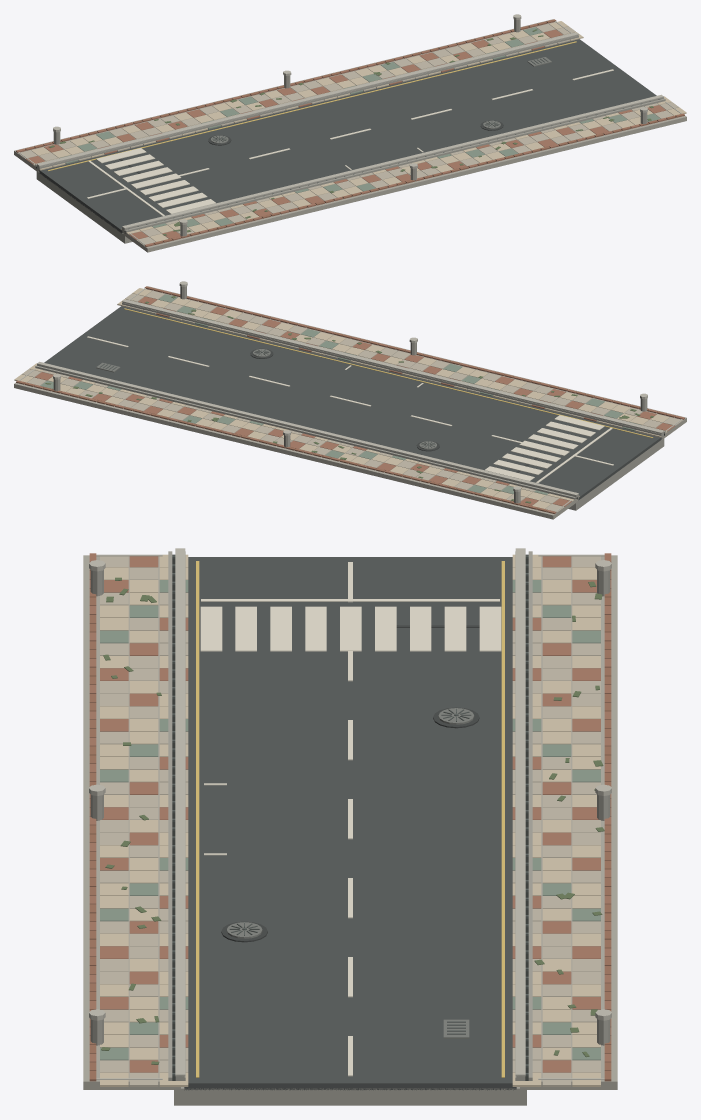
Rendered from Old_Town_Road.fbx.
3 views of the same model, one above another, from view 1: azimuth 30°, elevation 25°; view 2: azimuth 150°, elevation 25°; view 3: azimuth 270°, elevation 25° (orthographic). The views are drawn at different scales.
Visible parts, largest first — view 1: Main asphalt road surface, Sidewalk concrete bed, Kerb top worn edge.001, Kerb top worn edge, Drain outer lip, Sidewalk concrete bed.001, Drain inner lip.001, Continuous raised kerb, Faded yellow road edge line.001, Road foundation slab, Continuous raised kerb.001, Drain outer lip.001; view 2: Main asphalt road surface, Sidewalk concrete bed.001, Kerb top worn edge, Kerb top worn edge.001, Drain outer lip.001, Sidewalk concrete bed, Drain inner lip, Continuous raised kerb.001, Faded yellow road edge line, Road foundation slab, Continuous raised kerb, Drain outer lip; view 3: Main asphalt road surface, Sidewalk concrete bed, Sidewalk concrete bed.001, Road foundation slab, Kerb top worn edge, Kerb top worn edge.001, Drain outer lip, Drain outer lip.001, Faded yellow road edge line, Faded yellow road edge line.001, Drain dark channel, Drain dark channel.001 (+10 smaller).
Part boxes in pixels (left/top/right/bottom): Main asphalt road surface: left=39, top=39, right=656, bottom=233; Sidewalk concrete bed: left=123, top=104, right=686, bottom=252; Kerb top worn edge.001: left=37, top=32, right=578, bottom=166; Kerb top worn edge: left=122, top=94, right=663, bottom=228; Drain outer lip: left=125, top=98, right=665, bottom=233; Sidewalk concrete bed.001: left=14, top=19, right=563, bottom=171; Drain inner lip.001: left=39, top=35, right=578, bottom=169; Continuous raised kerb: left=122, top=97, right=663, bottom=233; Faded yellow road edge line.001: left=47, top=41, right=576, bottom=171; Road foundation slab: left=36, top=171, right=132, bottom=243; Continuous raised kerb.001: left=37, top=35, right=578, bottom=171; Drain outer lip.001: left=35, top=32, right=574, bottom=167; Main asphalt road surface: left=44, top=306, right=661, bottom=500; Sidewalk concrete bed.001: left=14, top=371, right=577, bottom=519; Kerb top worn edge: left=122, top=299, right=663, bottom=433; Kerb top worn edge.001: left=37, top=361, right=578, bottom=495; Drain outer lip.001: left=35, top=365, right=575, bottom=500; Sidewalk concrete bed: left=137, top=286, right=686, bottom=438; Drain inner lip: left=122, top=302, right=661, bottom=436; Continuous raised kerb.001: left=37, top=364, right=578, bottom=499; Faded yellow road edge line: left=124, top=308, right=653, bottom=438; Road foundation slab: left=568, top=438, right=664, bottom=510; Continuous raised kerb: left=122, top=302, right=663, bottom=438; Drain outer lip: left=126, top=299, right=665, bottom=434; Main asphalt road surface: left=184, top=557, right=516, bottom=1090; Sidewalk concrete bed: left=83, top=555, right=180, bottom=1089; Sidewalk concrete bed.001: left=520, top=555, right=617, bottom=1089; Road foundation slab: left=174, top=1087, right=526, bottom=1105; Kerb top worn edge: left=175, top=548, right=185, bottom=1076; Kerb top worn edge.001: left=515, top=548, right=525, bottom=1076; Drain outer lip: left=168, top=551, right=172, bottom=1080; Drain outer lip.001: left=528, top=551, right=532, bottom=1080; Faded yellow road edge line: left=196, top=561, right=199, bottom=1077; Faded yellow road edge line.001: left=501, top=561, right=504, bottom=1077; Drain dark channel: left=172, top=554, right=175, bottom=1080; Drain dark channel.001: left=525, top=554, right=528, bottom=1080.
Size of the model in its own units: 3022 by 144 by 1287.
